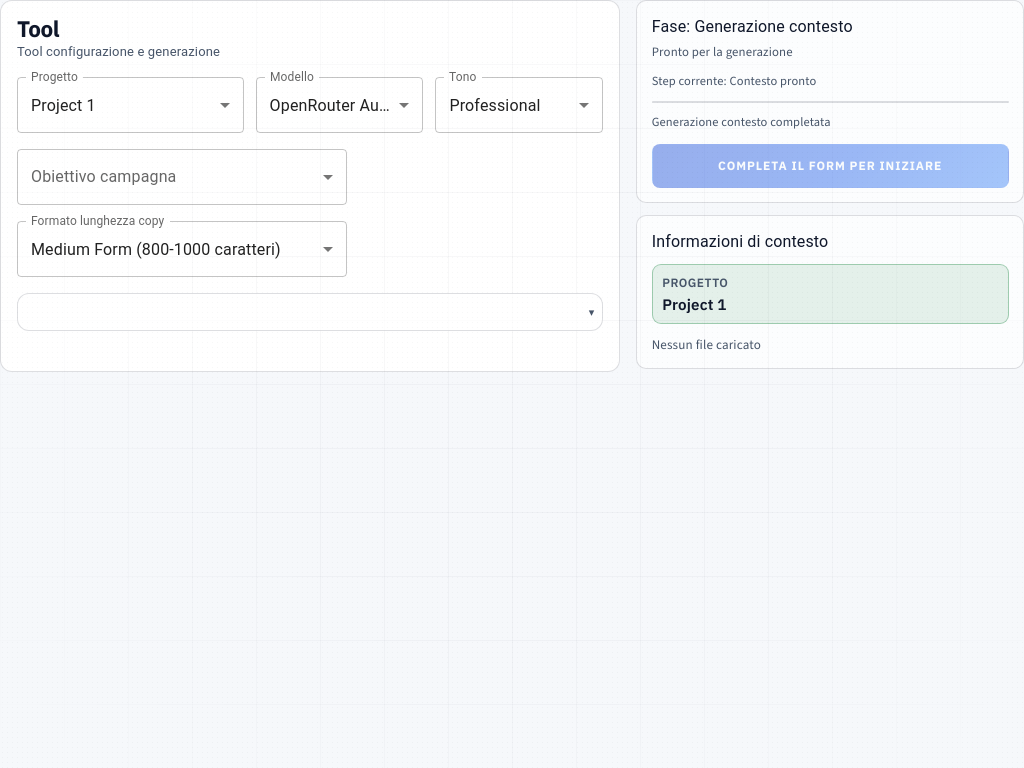
Test case: ToolPageTemplate meta-ads campaign objective › updates form state when campaign objective changes
Press the mouse on the dropdown named "obiettivo campagna" at (182, 177), box left=17, top=149, right=347, bottom=205
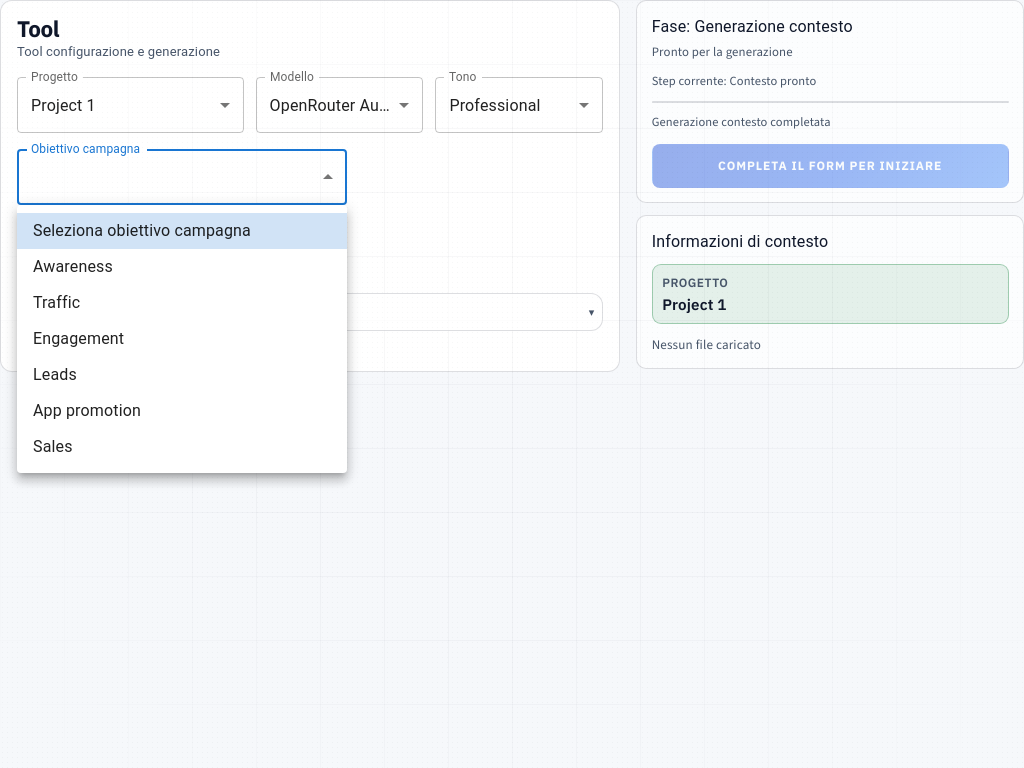
Click the option "Leads" at (55, 374), box left=33, top=365, right=77, bottom=384
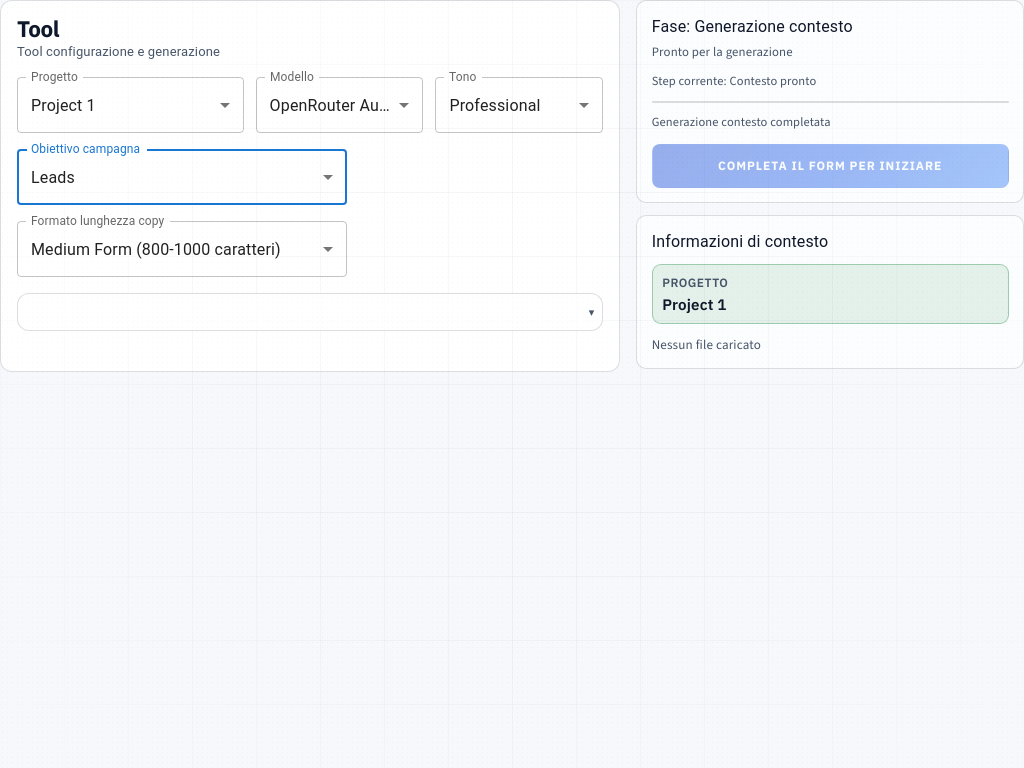
Now the dropdown named "obiettivo campagna" reads "Leads", box left=31, top=168, right=75, bottom=187
